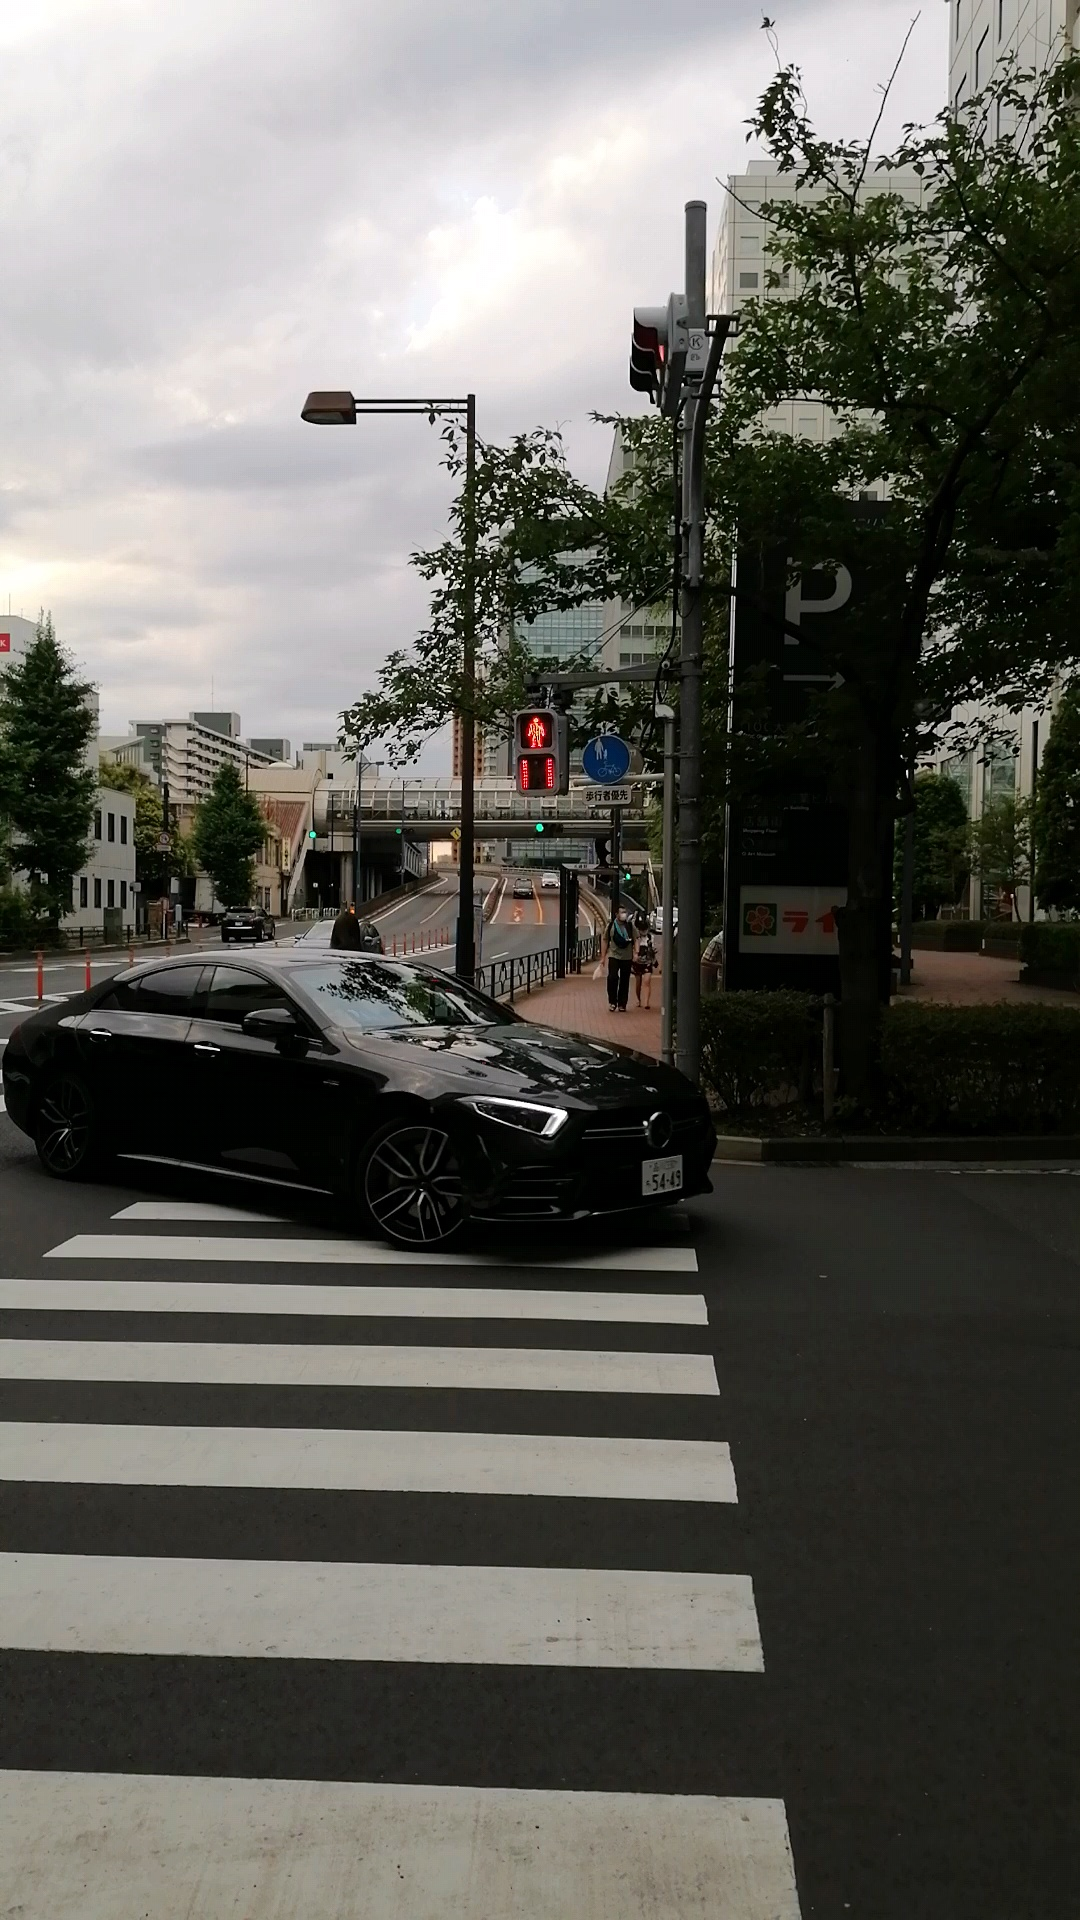red: (514, 708, 560, 796)
